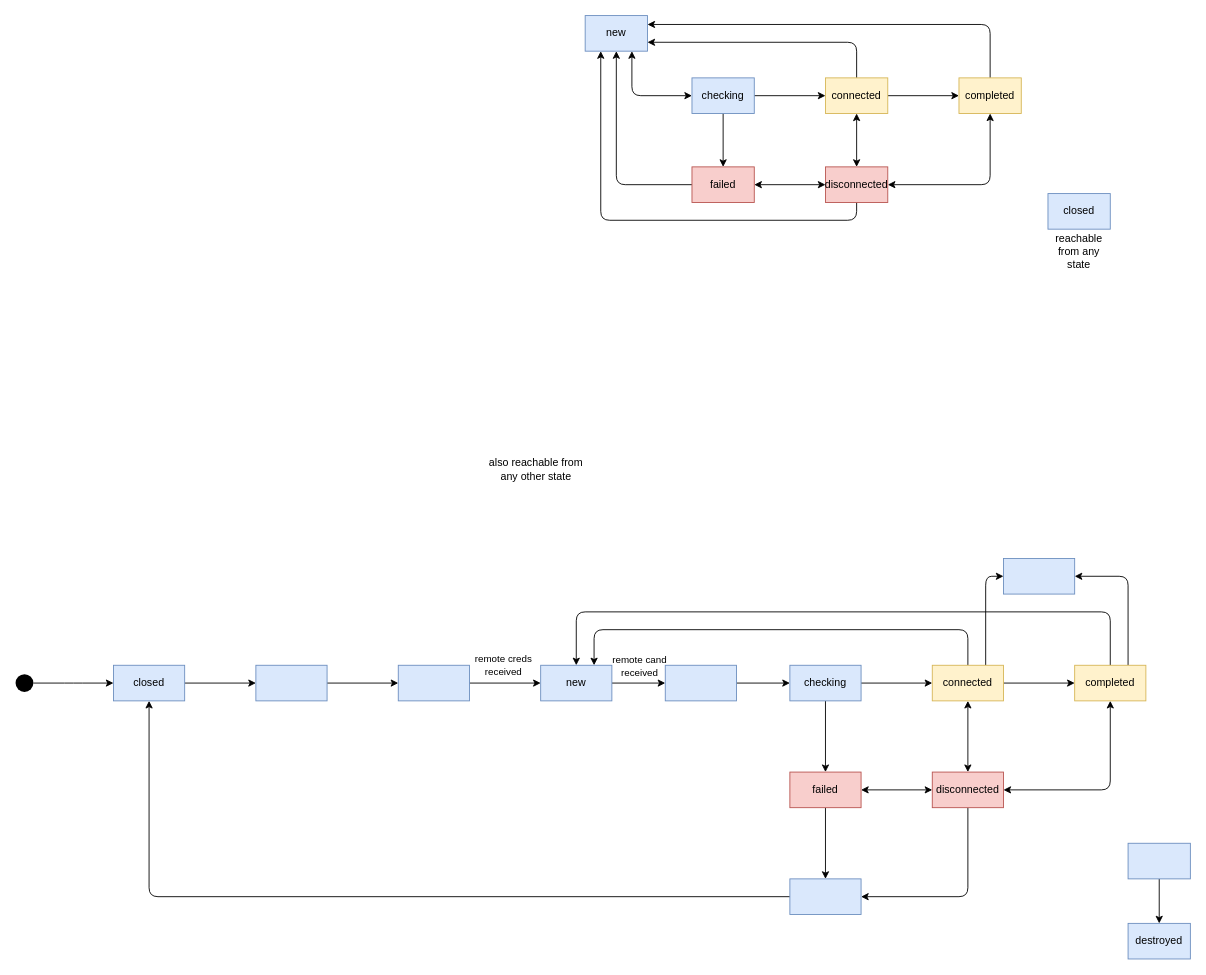
This 1206x975 diagram has some shape labels left out. The centre of each missing label's shape, as x and y in pixels:
connecting: [700,682]
creating: [291,682]
destroying: [1158,860]
established: [1039,576]
idle: [433,682]
restarting: [825,896]
